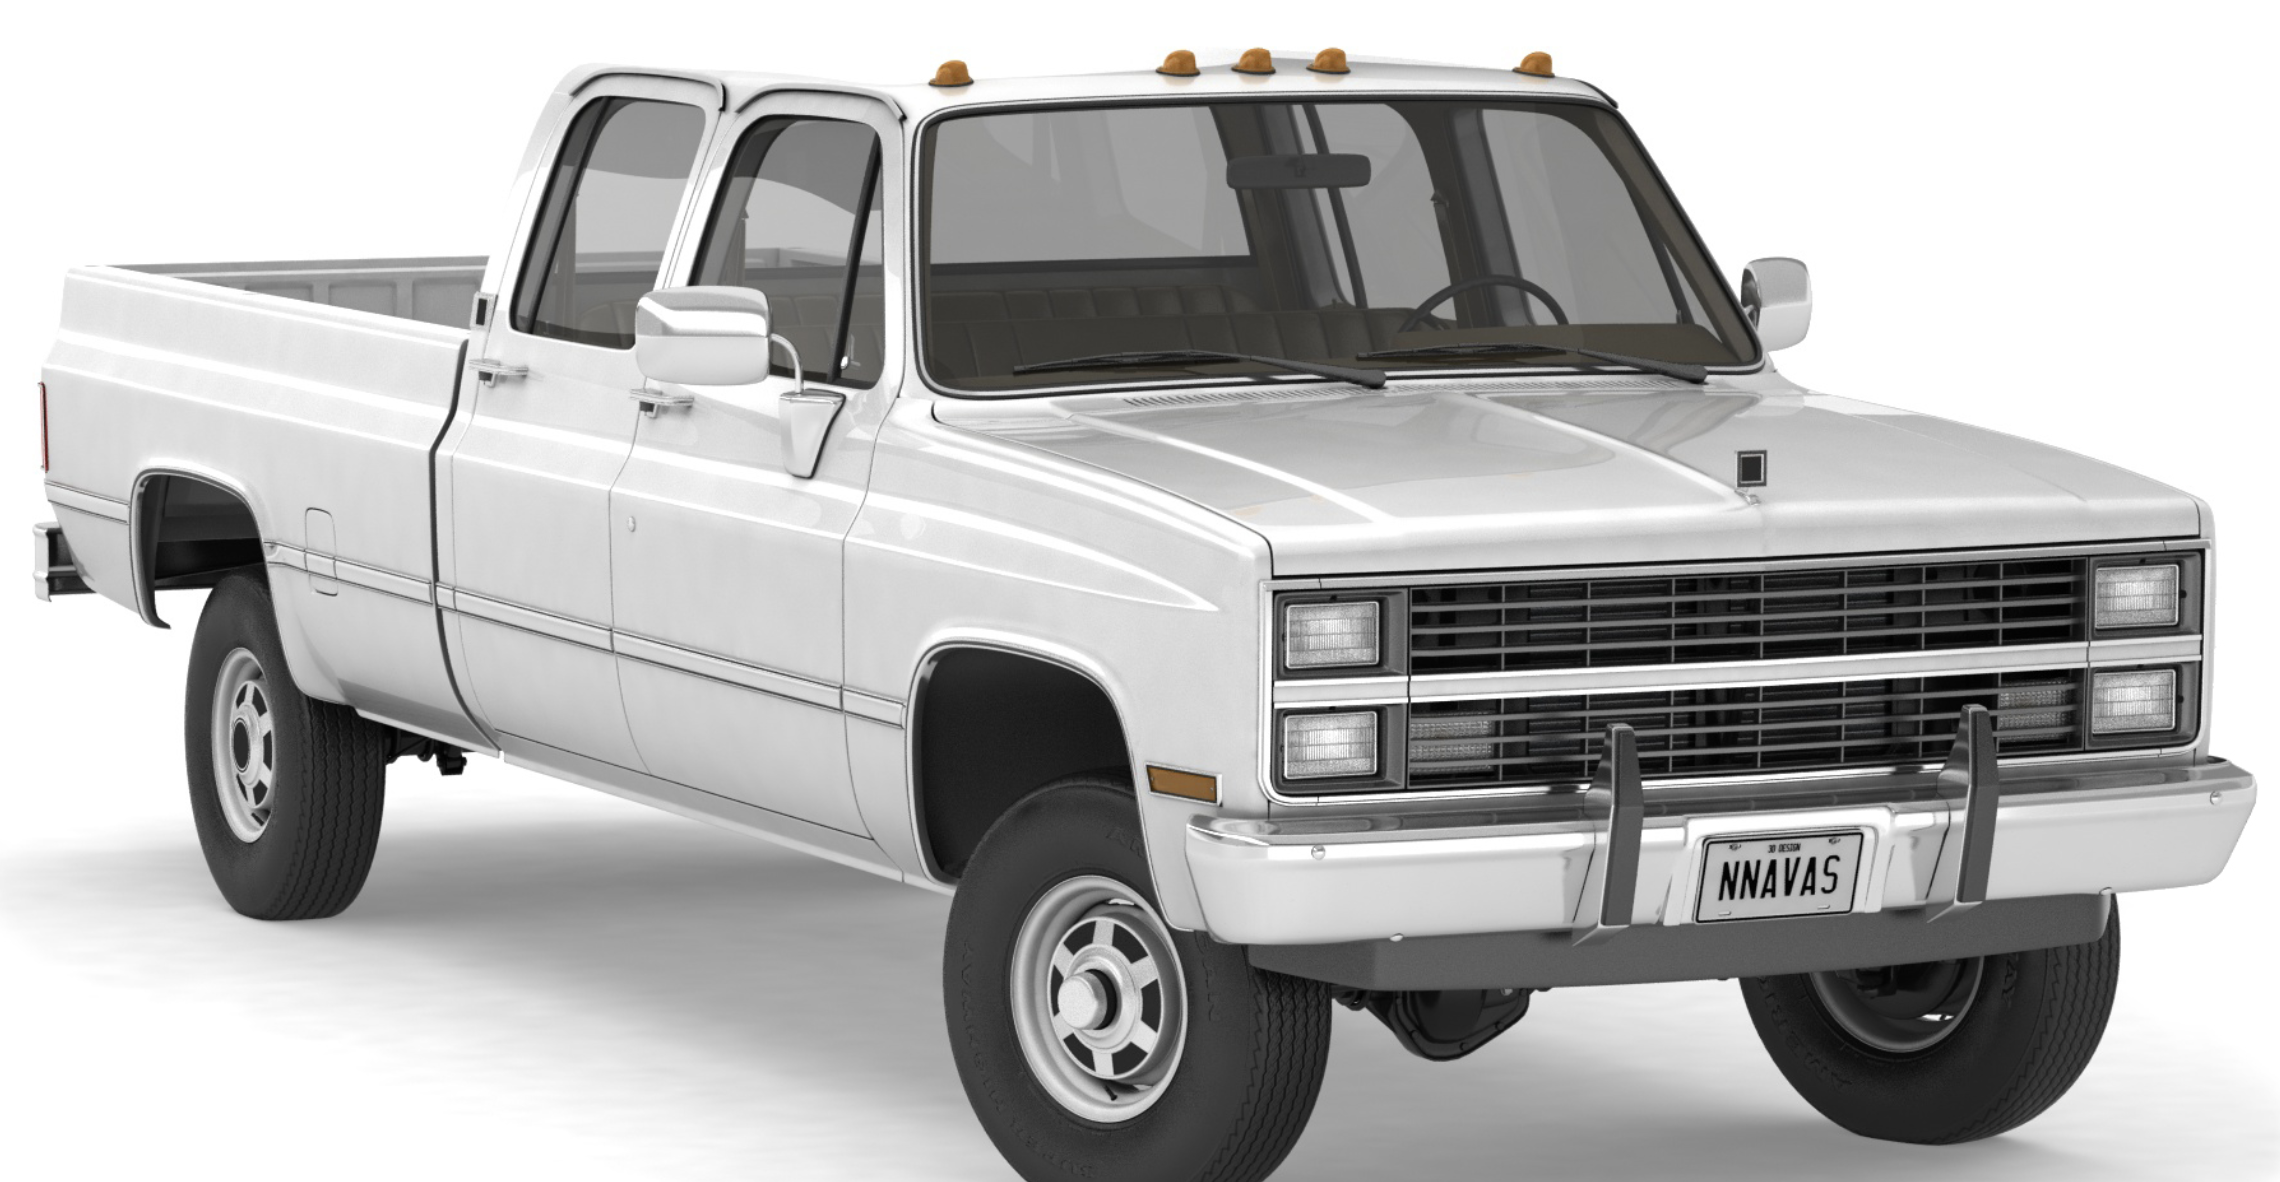hatch: (289, 498, 354, 608)
